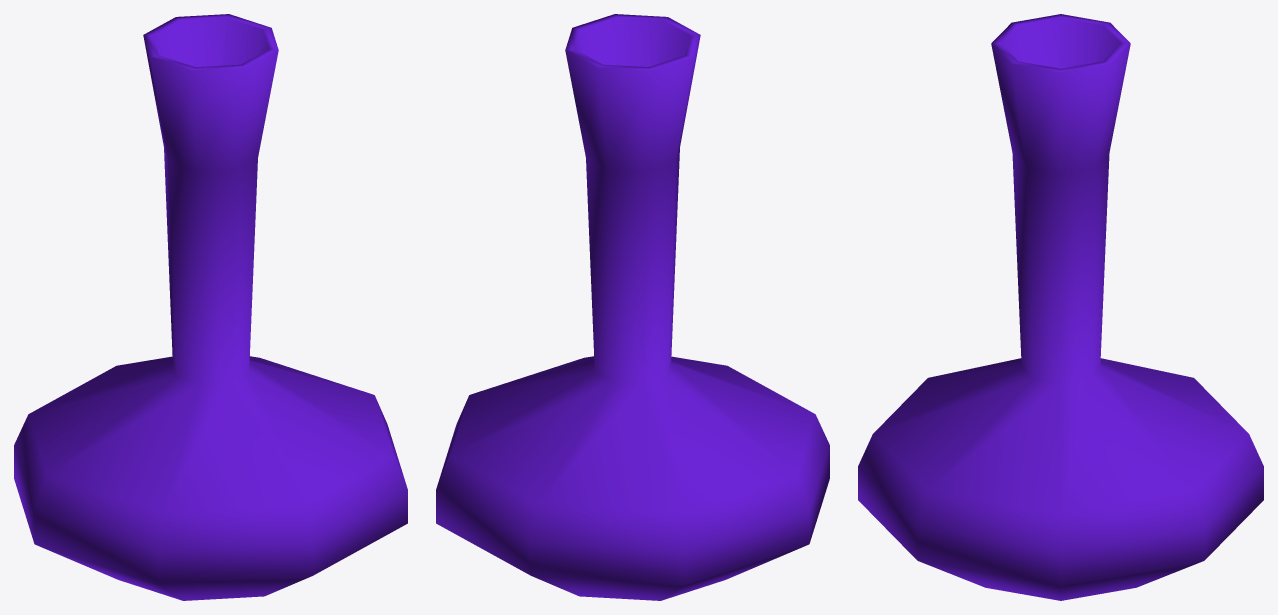
File: Vase_03.FBX
3 renders of one model, left to right at view 1: azimuth 30°, elevation 25°; view 2: azimuth 150°, elevation 25°; view 3: azimuth 270°, elevation 25°, orthographic.
Parts seen in each view (by area): view 1: Vase; view 2: Vase; view 3: Vase.
Part boxes in pixels (<box>): Vase: <box>14,14,407,600</box>; Vase: <box>436,14,829,600</box>; Vase: <box>858,14,1263,600</box>.
Bounding box in the file's own units: 72.06 × 100 × 72.06.
